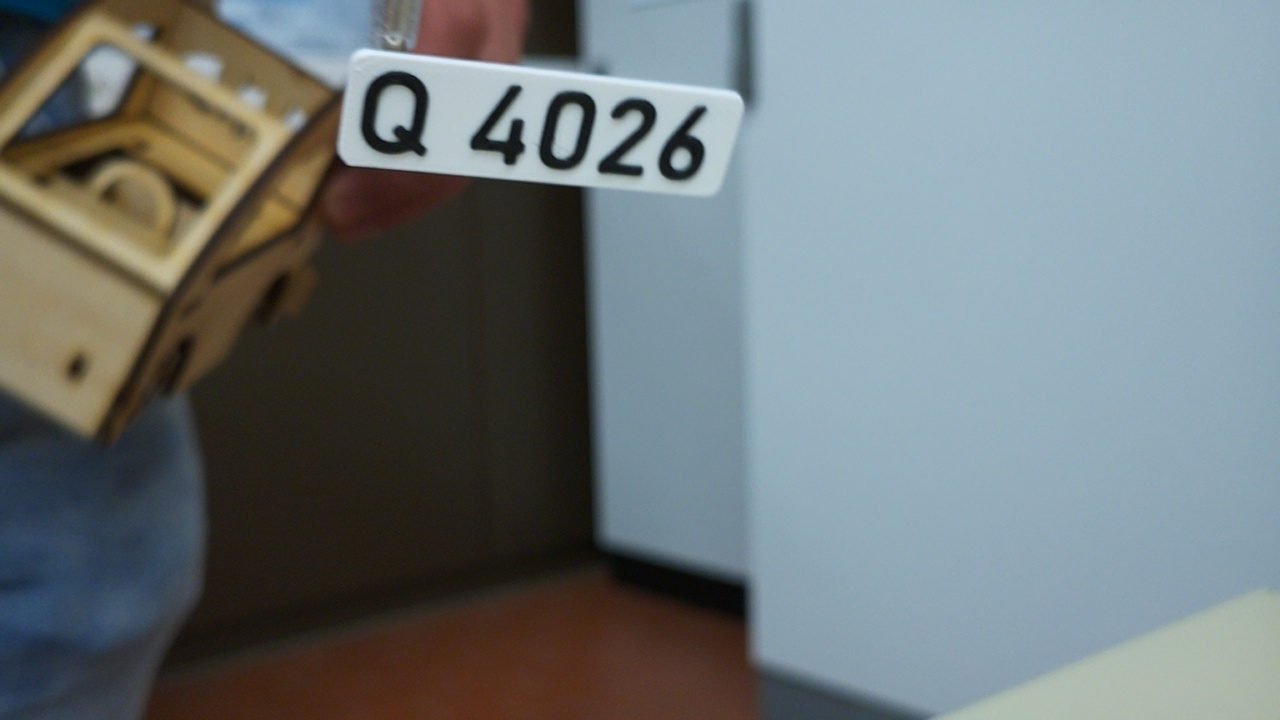license_plate: (335, 48, 747, 199)
